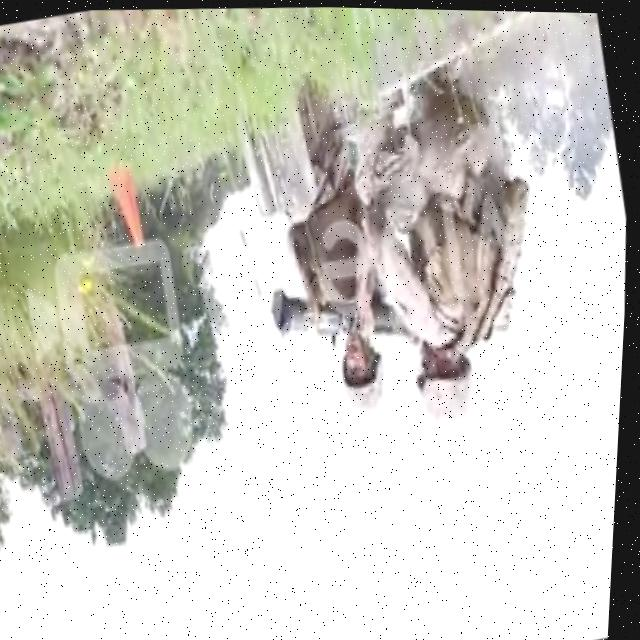rocket: (269, 262, 425, 368)
